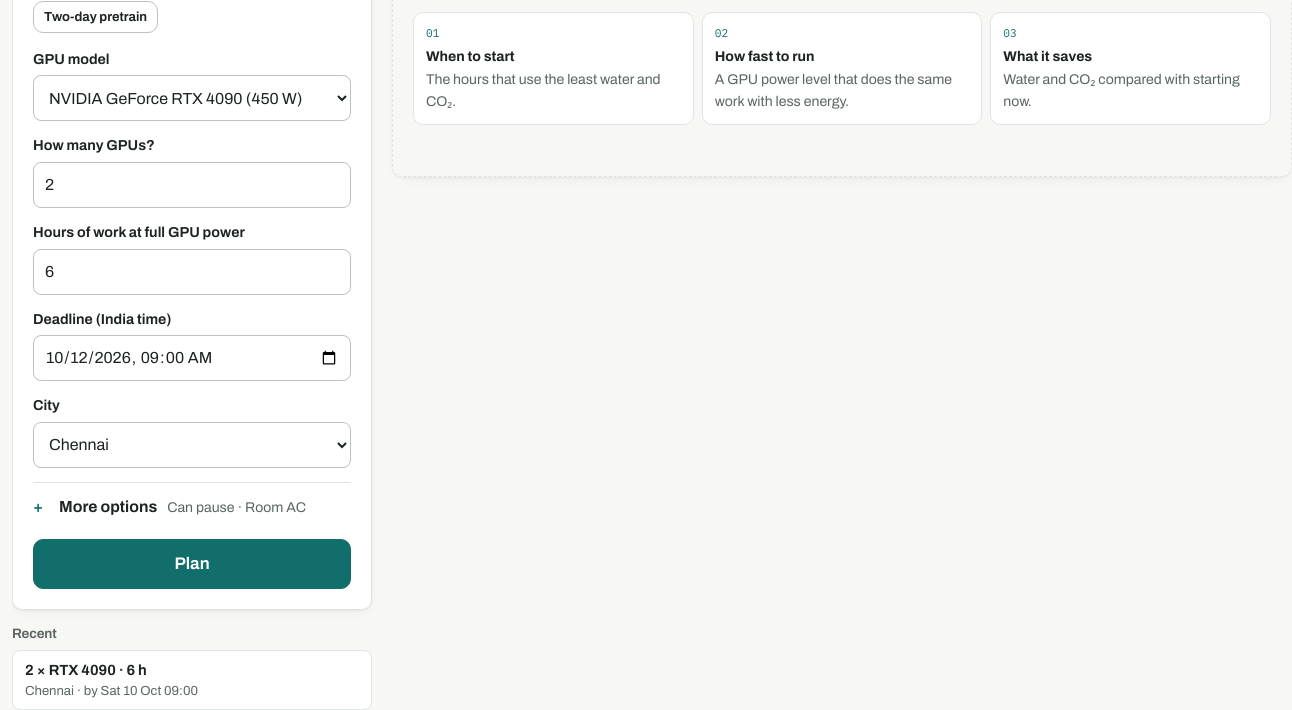
Test: PlanPage when every trade-off option is the same plan › hides the slider and says why, with a placeholder chip (TODO 5.7)
(page scrolled)
Click the button "Plan": (192, 564) 33,539 -> 351,589
(page scrolled)
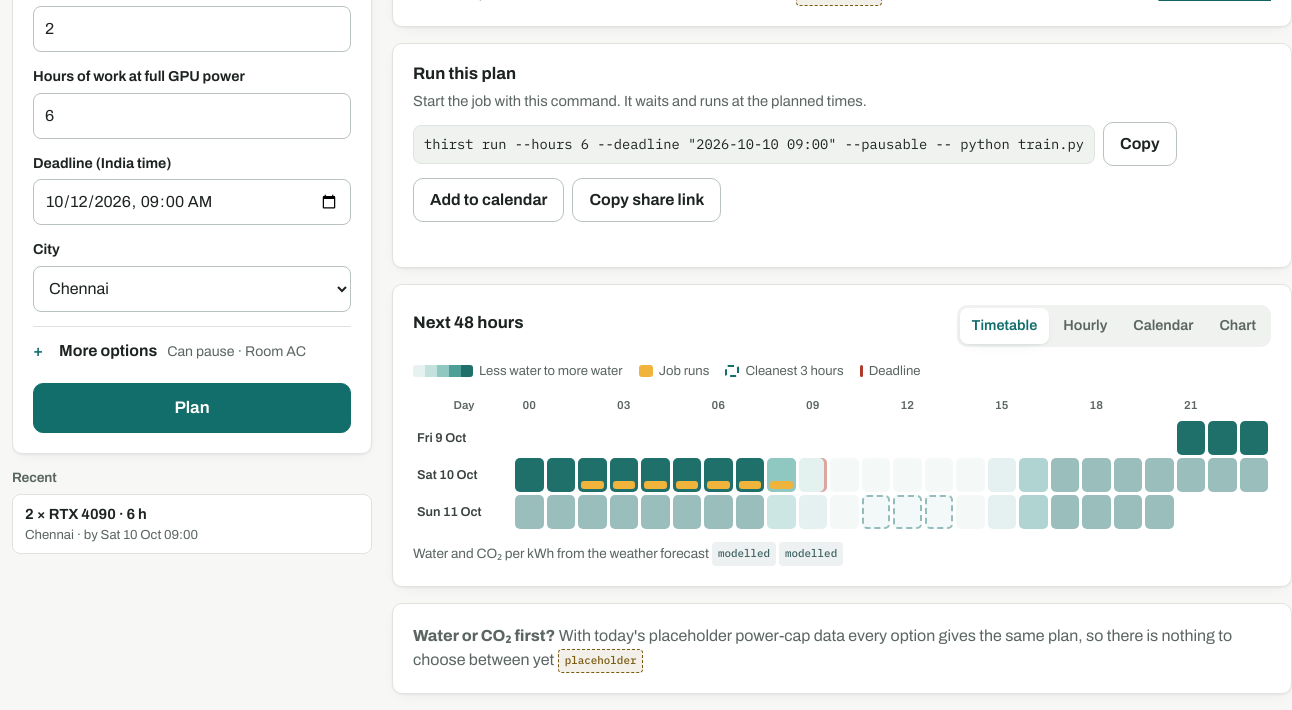
expect the text "every option gives the same plan" shows "placeholder power-cap data": met, box 413,627 -> 1232,668
expect the link "placeholder" below "Water or CO₂ first?" is shown: met, box 558,649 -> 644,673
